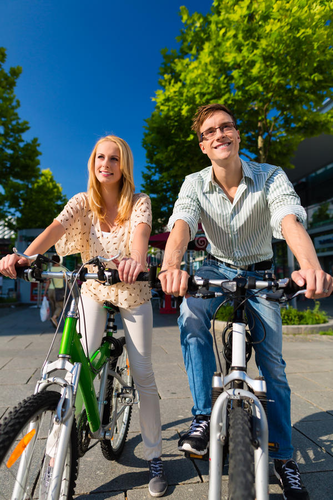bikerider: (162, 92, 328, 499), (1, 118, 163, 497)
